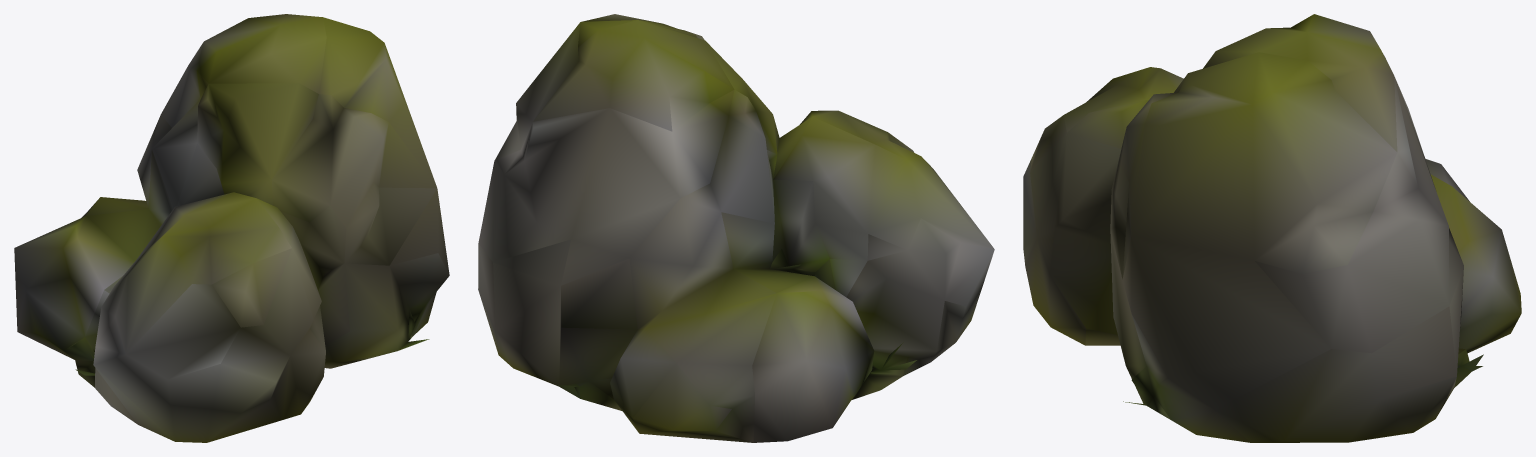
File: env-granite.lod.glb
3 views of the same model, side by side, from view 1: azimuth 30°, elevation 25°; view 2: azimuth 150°, elevation 25°; view 3: azimuth 270°, elevation 25° (orthographic). The views are drawn at different scales.
Visible parts, largest first — view 1: tripo_node_c340b1ab-1283-428f-9d4d-a3e03fb36b30; view 2: tripo_node_c340b1ab-1283-428f-9d4d-a3e03fb36b30; view 3: tripo_node_c340b1ab-1283-428f-9d4d-a3e03fb36b30.
Part boxes in pixels (box(x1,y1,x2,y2)): tripo_node_c340b1ab-1283-428f-9d4d-a3e03fb36b30: box(14, 14, 449, 442); tripo_node_c340b1ab-1283-428f-9d4d-a3e03fb36b30: box(478, 14, 994, 442); tripo_node_c340b1ab-1283-428f-9d4d-a3e03fb36b30: box(1023, 14, 1521, 442).
Bounding box in the file's own units: 0.9966 × 0.7452 × 0.9605.
